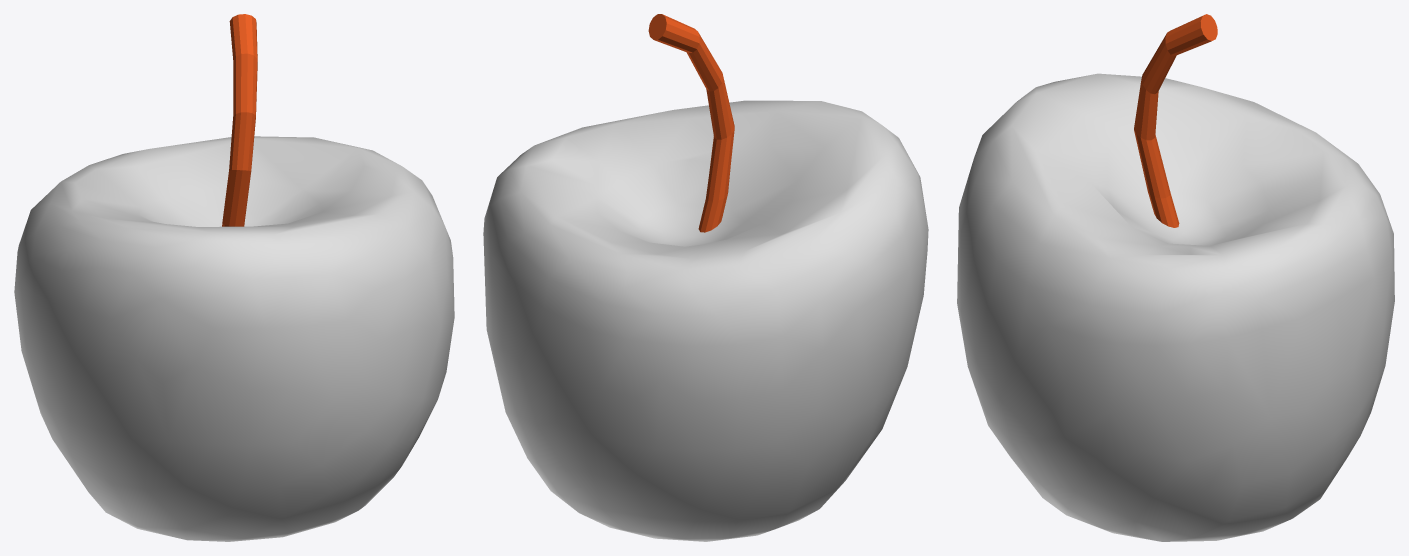
Rendered from AppleStylized.fbx.
The picture shows the model from 3 angles, left to right: view 1: azimuth 30°, elevation 25°; view 2: azimuth 150°, elevation 25°; view 3: azimuth 270°, elevation 25°; orthographic projection. The views are drawn at different scales.
Visible parts, largest first — view 1: Sphere.008, Cylinder; view 2: Sphere.008, Cylinder; view 3: Sphere.008, Cylinder.
Boxes of the visible parts, x1,y1,x2,y2 form: Sphere.008: [14, 136, 454, 541]; Cylinder: [222, 14, 257, 226]; Sphere.008: [483, 100, 928, 541]; Cylinder: [648, 14, 734, 232]; Sphere.008: [957, 73, 1394, 541]; Cylinder: [1134, 14, 1217, 227].
Bounding box in the file's own units: 145 × 167 × 137.
